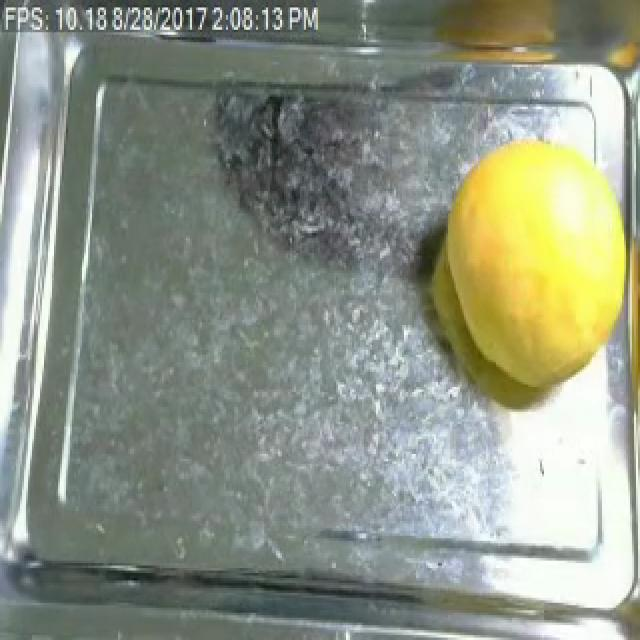fruit: (428, 126, 638, 410), (410, 0, 584, 102)
